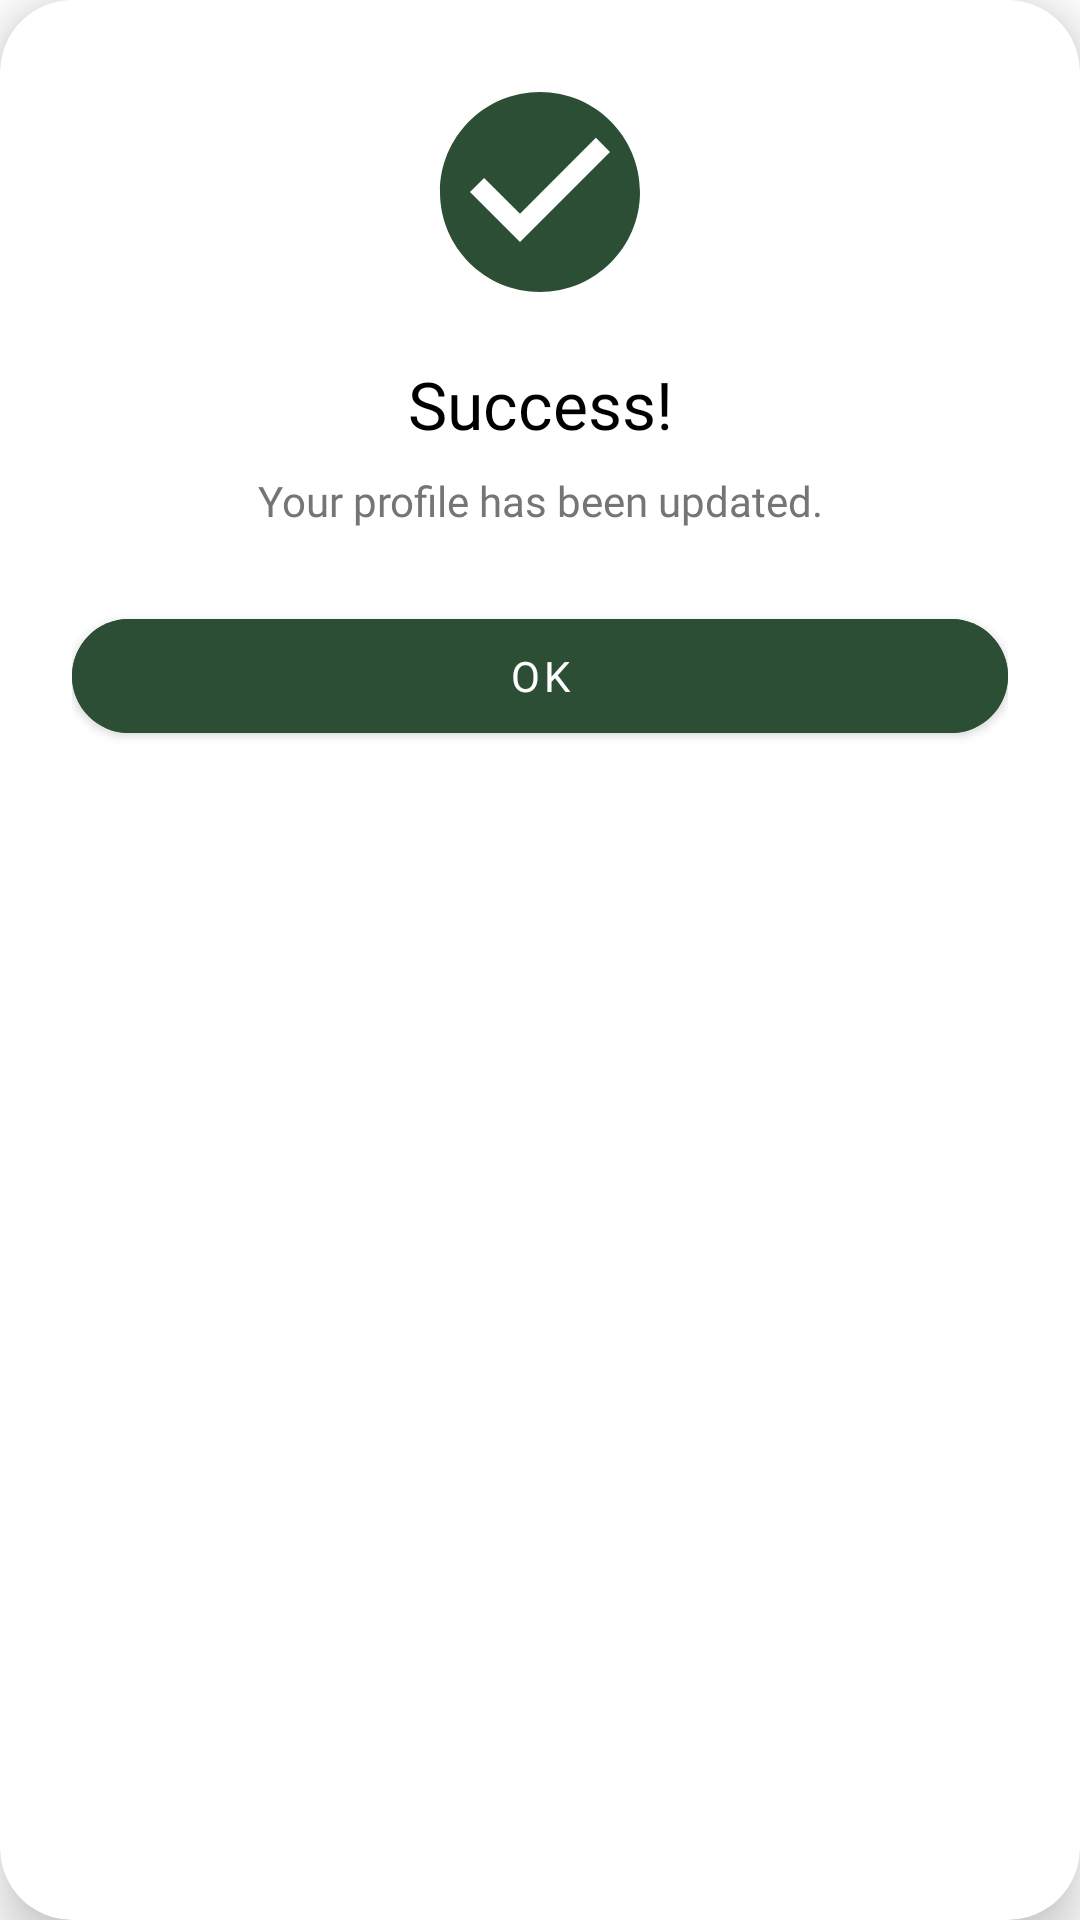

Named icons in this screenshot (1080px×1920px) and their centers, (x=x, y=y):
check circle: (x=540, y=192)
